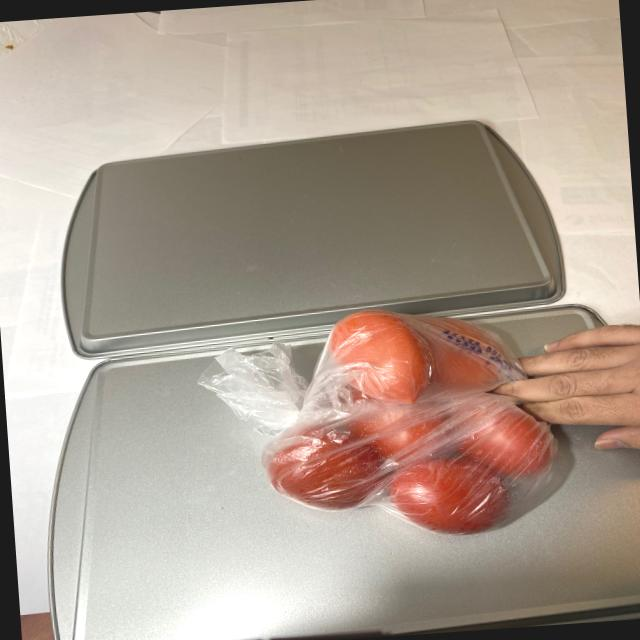tomato: (232, 297, 558, 547)
